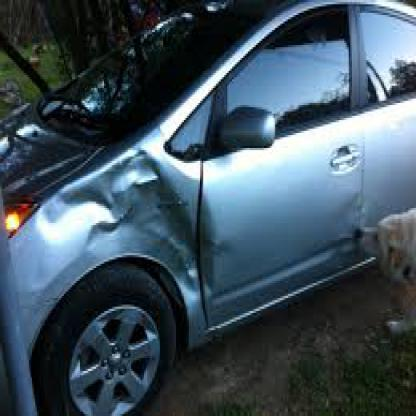dent: (47, 154, 166, 223), (180, 201, 214, 289), (347, 191, 368, 229)
